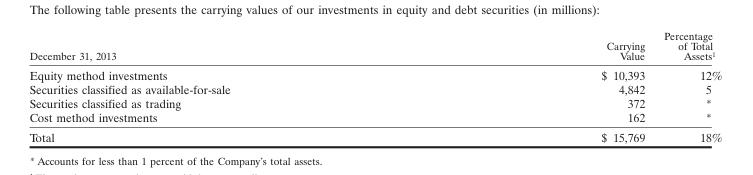table: (28, 28, 721, 143)
table column: (28, 28, 415, 143), (415, 28, 653, 143), (653, 28, 721, 143)
table column header: (28, 28, 721, 64)
table row: (28, 28, 721, 64), (28, 64, 721, 81), (28, 110, 721, 127), (28, 127, 721, 143), (28, 81, 721, 96), (28, 96, 721, 110)
